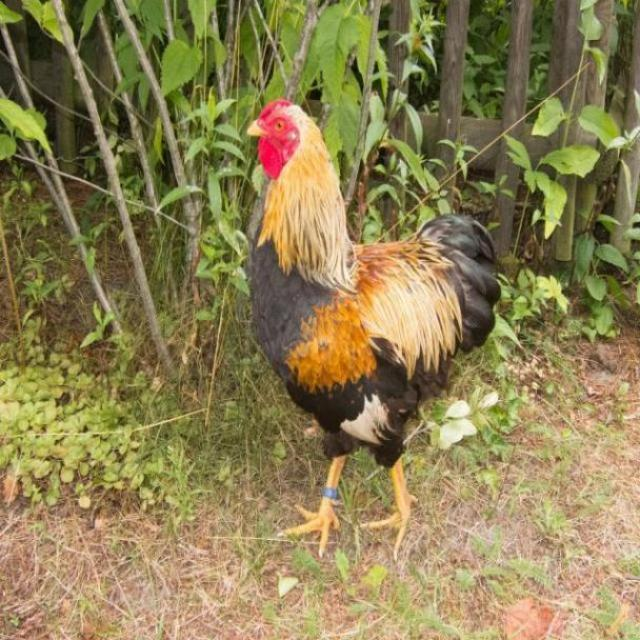Chicken: (244, 106, 503, 553)
